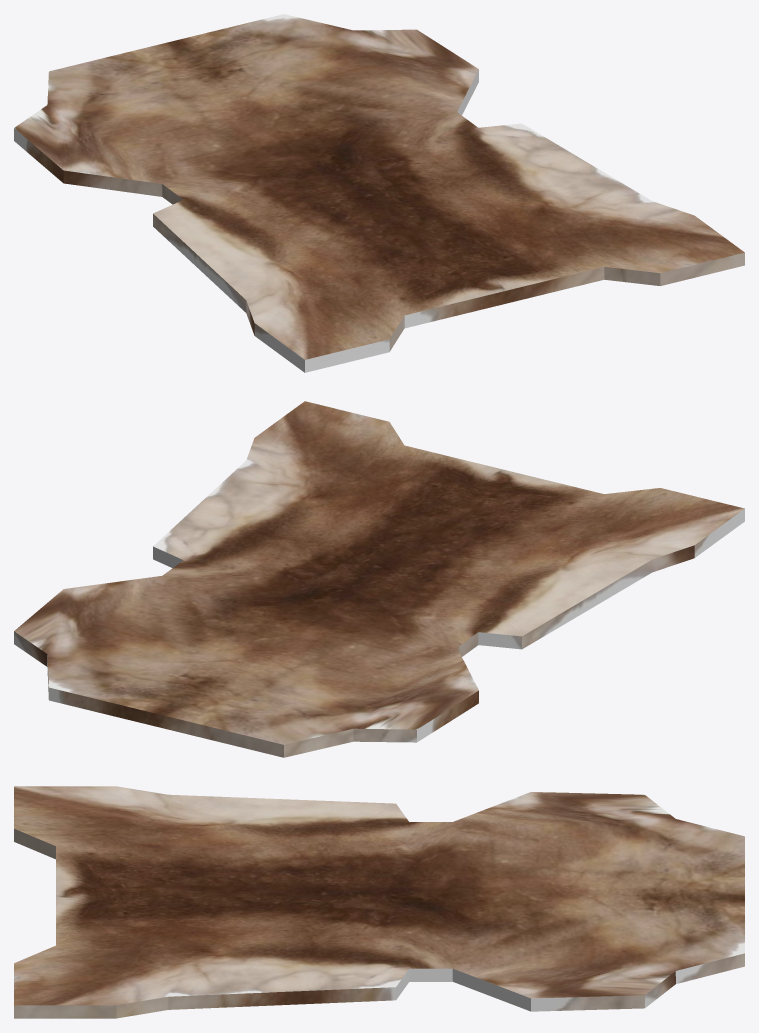
Rendered from Leather_Hide.fbx.
3 views of the same model, one above another, from view 1: azimuth 30°, elevation 25°; view 2: azimuth 150°, elevation 25°; view 3: azimuth 270°, elevation 25° (orthographic).
Parts seen in each view (by area): view 1: LeatherHide; view 2: LeatherHide; view 3: LeatherHide.
Part boxes in pixels (<box>): LeatherHide: <box>14,14,744,372</box>; LeatherHide: <box>14,401,744,757</box>; LeatherHide: <box>14,786,744,1018</box>.
Size of the model in its own units: 1.18 by 0.036 by 1.66.
